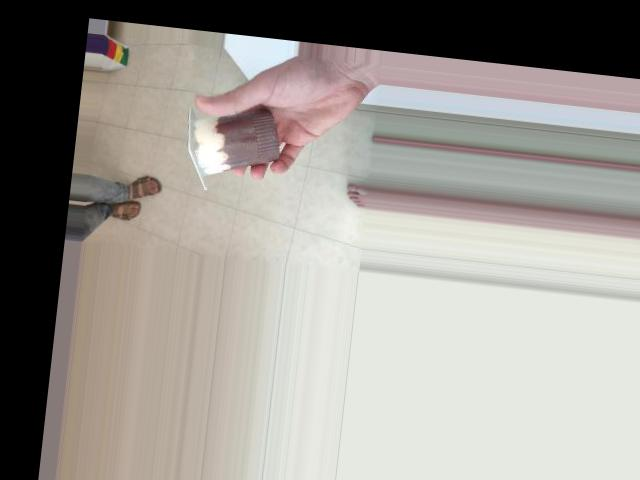milky: (178, 96, 295, 192)
